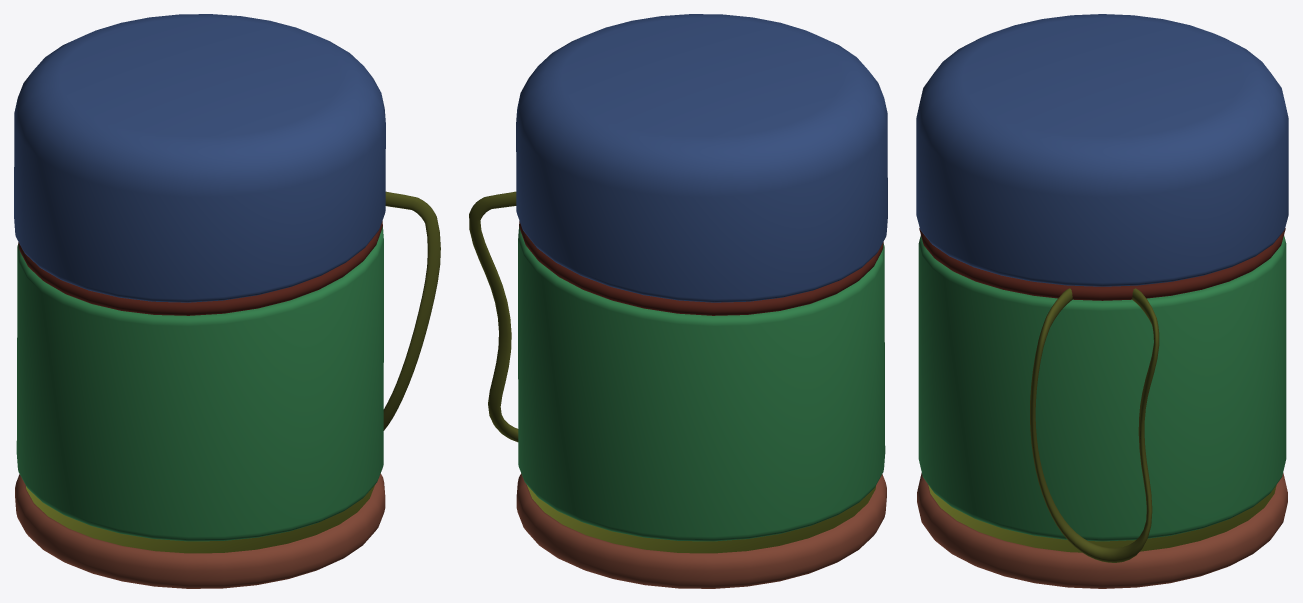
The model's file is Container_Style_14.fbx.
The picture shows the model from 3 angles, left to right: view 1: azimuth 30°, elevation 25°; view 2: azimuth 150°, elevation 25°; view 3: azimuth 270°, elevation 25°; orthographic projection.
Visible parts, largest first — view 1: SetA_Container_Style_14; view 2: SetA_Container_Style_14; view 3: SetA_Container_Style_14.
Boxes of the visible parts, left/top/right/bottom form: SetA_Container_Style_14: left=14, top=14, right=440, bottom=588; SetA_Container_Style_14: left=469, top=14, right=887, bottom=588; SetA_Container_Style_14: left=916, top=14, right=1288, bottom=588.
Size of the model in its own units: 0.2417 by 0.2743 by 0.2115.
